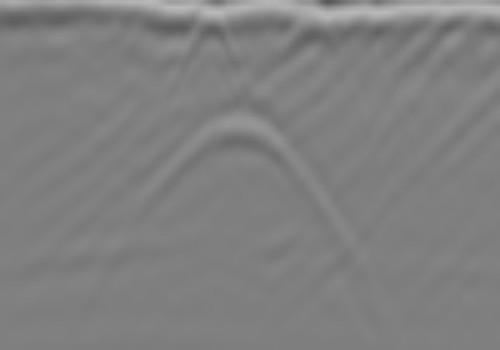Hyperbola: (89, 85, 404, 342), (170, 0, 263, 68)
